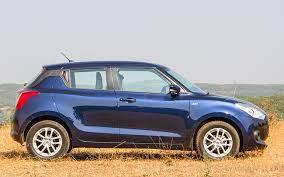Hatchback: (12, 57, 271, 162)
